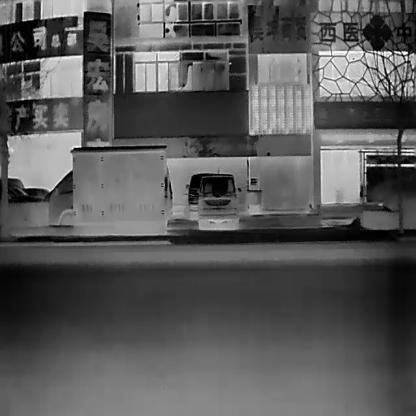car: (198, 172, 239, 228), (185, 172, 204, 219)
